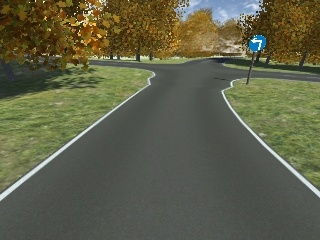TLeft: (246, 33, 268, 54)
